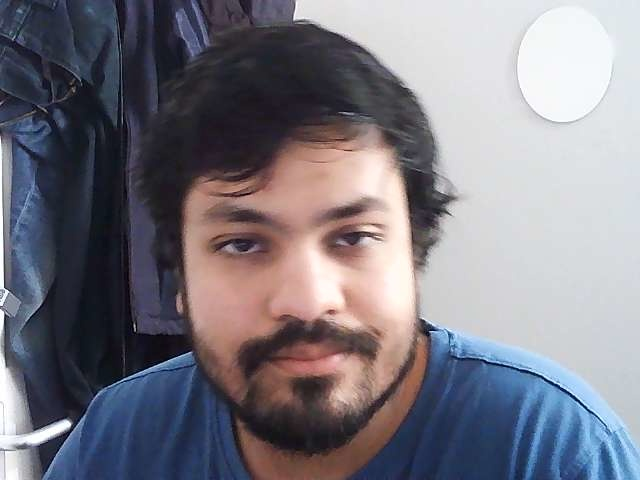Face: (135, 21, 444, 451)
